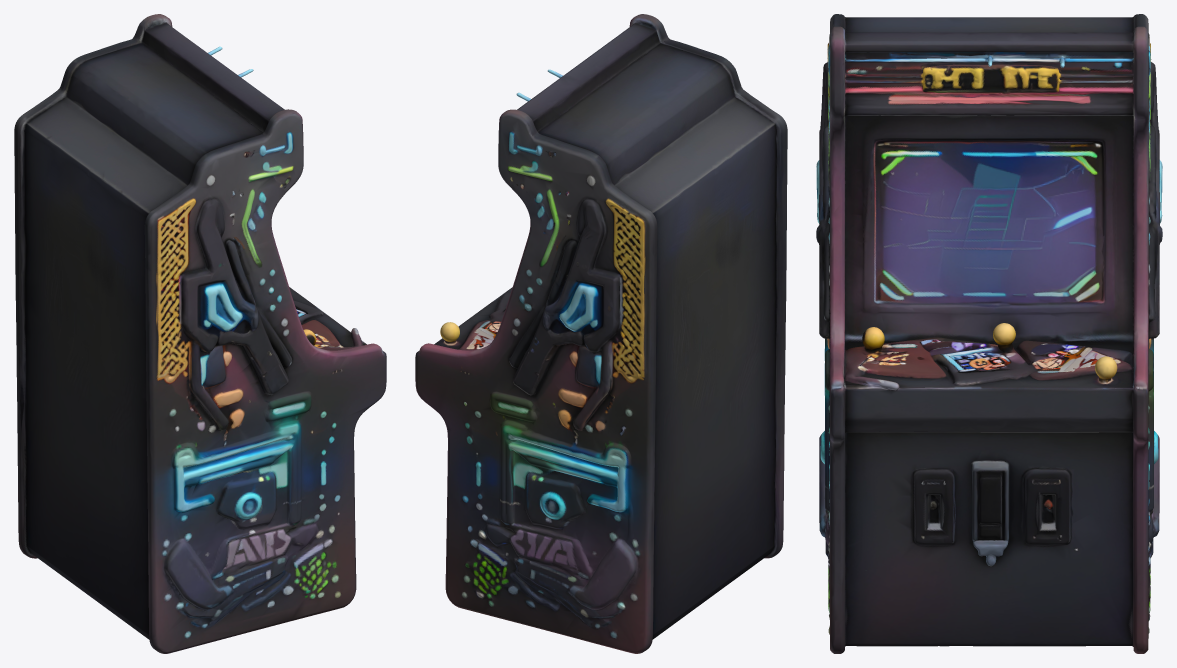
Rendered from prop-arcade-cabinet.glb.
3 renders of one model, left to right at view 1: azimuth 30°, elevation 25°; view 2: azimuth 150°, elevation 25°; view 3: azimuth 270°, elevation 25°, orthographic. The views are drawn at different scales.
Parts seen in each view (by area): view 1: tripo_node_50d9efe0-cc98-4855-a47c-14085c237f60; view 2: tripo_node_50d9efe0-cc98-4855-a47c-14085c237f60; view 3: tripo_node_50d9efe0-cc98-4855-a47c-14085c237f60.
Boxes of the visible parts, box(x1,y1,x2,y2) form: tripo_node_50d9efe0-cc98-4855-a47c-14085c237f60: box(14, 14, 386, 653); tripo_node_50d9efe0-cc98-4855-a47c-14085c237f60: box(415, 14, 787, 653); tripo_node_50d9efe0-cc98-4855-a47c-14085c237f60: box(816, 14, 1162, 653).
Size of the model in its own units: 0.9769 by 2 by 1.05.
Materials: 1 (1 with a texture image).
